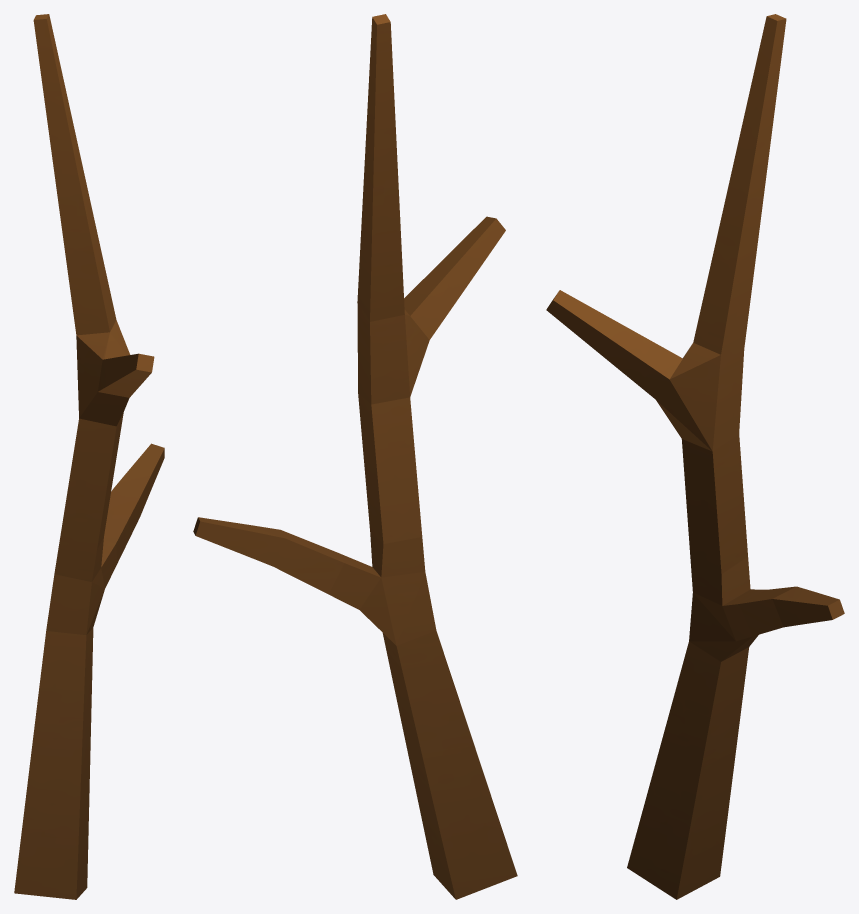
File: stick.glb
3 views of the same model, side by side, from view 1: azimuth 30°, elevation 25°; view 2: azimuth 150°, elevation 25°; view 3: azimuth 270°, elevation 25° (orthographic). The views are drawn at different scales.
Visible parts, largest first — view 1: stick_merged; view 2: stick_merged; view 3: stick_merged.
Part boxes in pixels (x1,y1,x2,y2): stick_merged: (14,14,164,899); stick_merged: (193,14,517,899); stick_merged: (546,14,844,899).
Size of the model in its own units: 1 by 3.52 by 1.08.
1 material, 1 textured.
